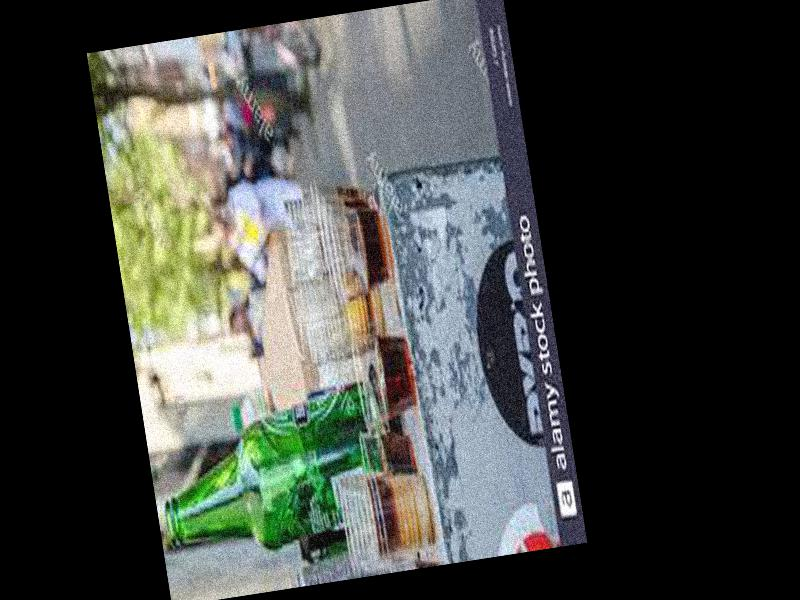Beer: (149, 374, 411, 567)
